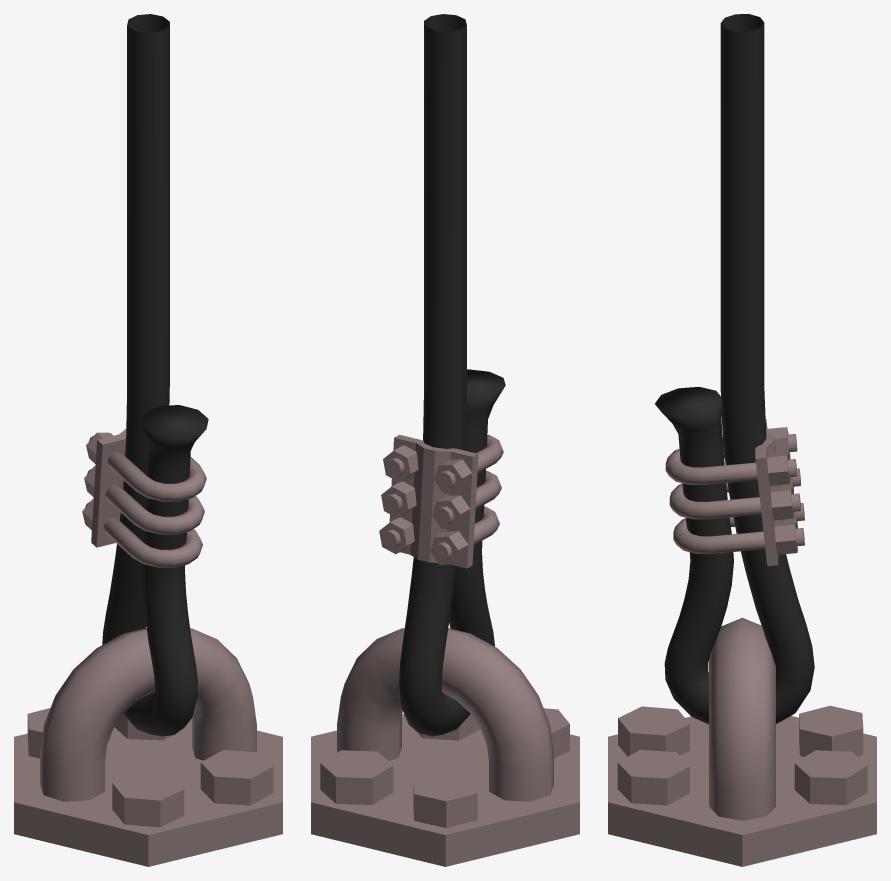
Rendered from JCLobbyCableAnchor.obj.
3 views of the same model, side by side, from view 1: azimuth 30°, elevation 25°; view 2: azimuth 150°, elevation 25°; view 3: azimuth 270°, elevation 25° (orthographic).
Visible parts, largest first — view 1: LoopMount.003_LoopMount, Curve.002_CUCurve.001, Clasp.001_Clasp; view 2: LoopMount.003_LoopMount, Curve.002_CUCurve.001, Clasp.001_Clasp; view 3: LoopMount.003_LoopMount, Curve.002_CUCurve.001, Clasp.001_Clasp.
Boxes of the visible parts, box(x1,y1,x2,y2) form: LoopMount.003_LoopMount: box(14, 628, 282, 866); Curve.002_CUCurve.001: box(102, 14, 208, 736); Clasp.001_Clasp: box(82, 429, 206, 567); LoopMount.003_LoopMount: box(311, 628, 579, 866); Curve.002_CUCurve.001: box(399, 14, 505, 736); Clasp.001_Clasp: box(379, 434, 503, 568); LoopMount.003_LoopMount: box(608, 617, 876, 866); Curve.002_CUCurve.001: box(655, 14, 814, 724); Clasp.001_Clasp: box(665, 419, 804, 565).
Size of the model in its own units: 0.1421 by 0.3933 by 0.123.
